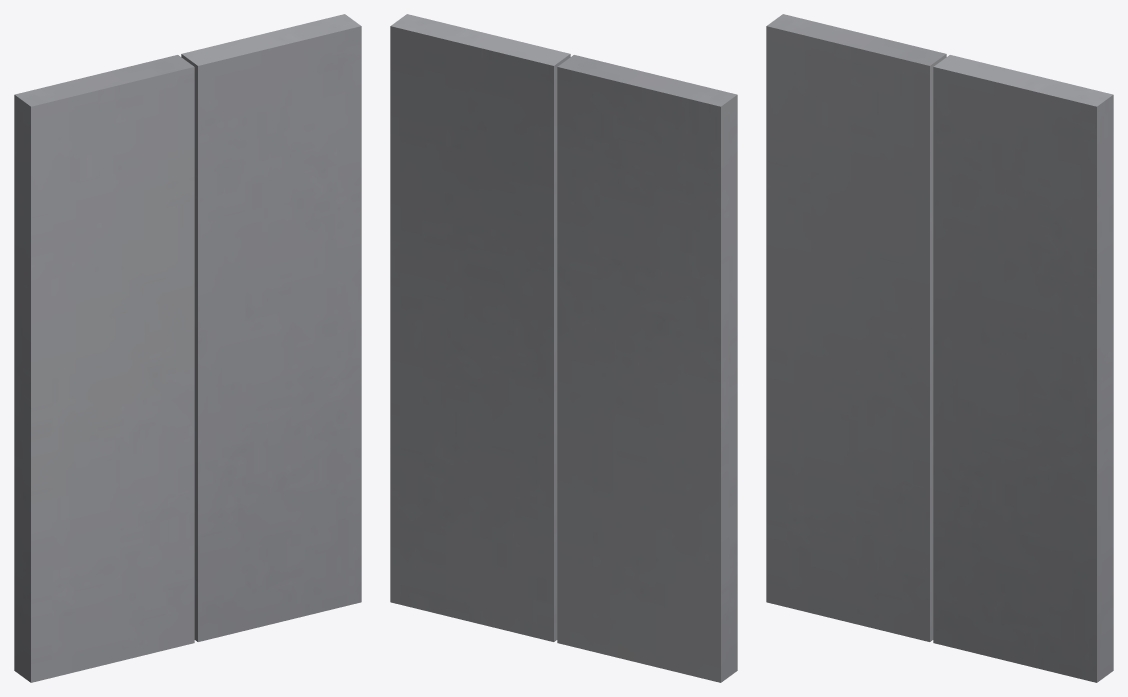
Rendered from PuertaAscenosrTexturafbx.fbx.
3 renders of one model, left to right at view 1: azimuth 30°, elevation 25°; view 2: azimuth 150°, elevation 25°; view 3: azimuth 330°, elevation 25°, orthographic.
Parts seen in each view (by area): view 1: pCube1; view 2: pCube1; view 3: pCube1.
Boxes of the visible parts, <box> form: pCube1: <box>14,14,361,682</box>; pCube1: <box>390,14,737,682</box>; pCube1: <box>766,14,1113,682</box>.
Bounding box in the file's own units: 4.24 × 7.06 × 0.3684.
1 material, 1 textured.
